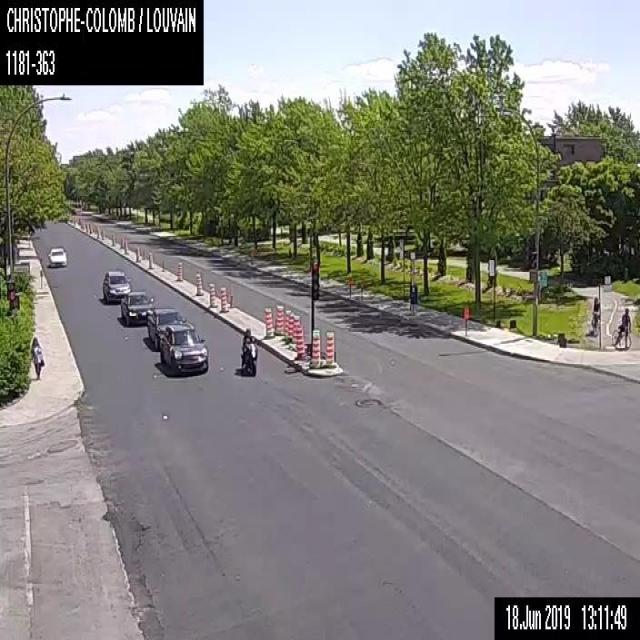construction: (310, 328, 322, 368), (294, 323, 306, 360), (263, 307, 274, 338), (325, 329, 334, 366), (290, 314, 299, 349), (274, 304, 283, 334), (218, 285, 228, 311), (286, 311, 293, 343), (284, 309, 290, 343), (208, 282, 216, 307), (194, 272, 202, 294), (176, 261, 182, 280), (134, 246, 140, 261), (111, 232, 116, 246), (148, 251, 152, 268), (120, 234, 124, 248), (124, 239, 128, 253)
cyclist: (610, 307, 633, 348), (589, 296, 598, 335)
pedestrian: (30, 336, 44, 379)
vehicle: (158, 323, 208, 373), (147, 307, 185, 351), (120, 290, 155, 326), (102, 270, 131, 303), (239, 328, 257, 375), (48, 245, 66, 267)
